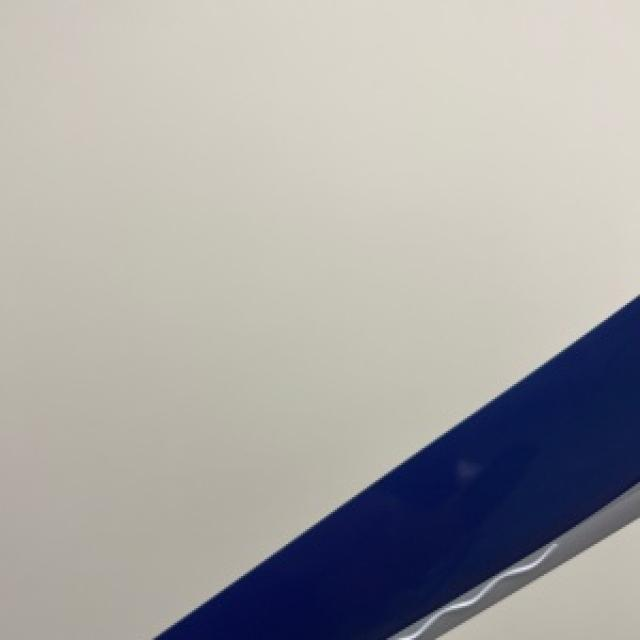healthy: (156, 294, 638, 638)
